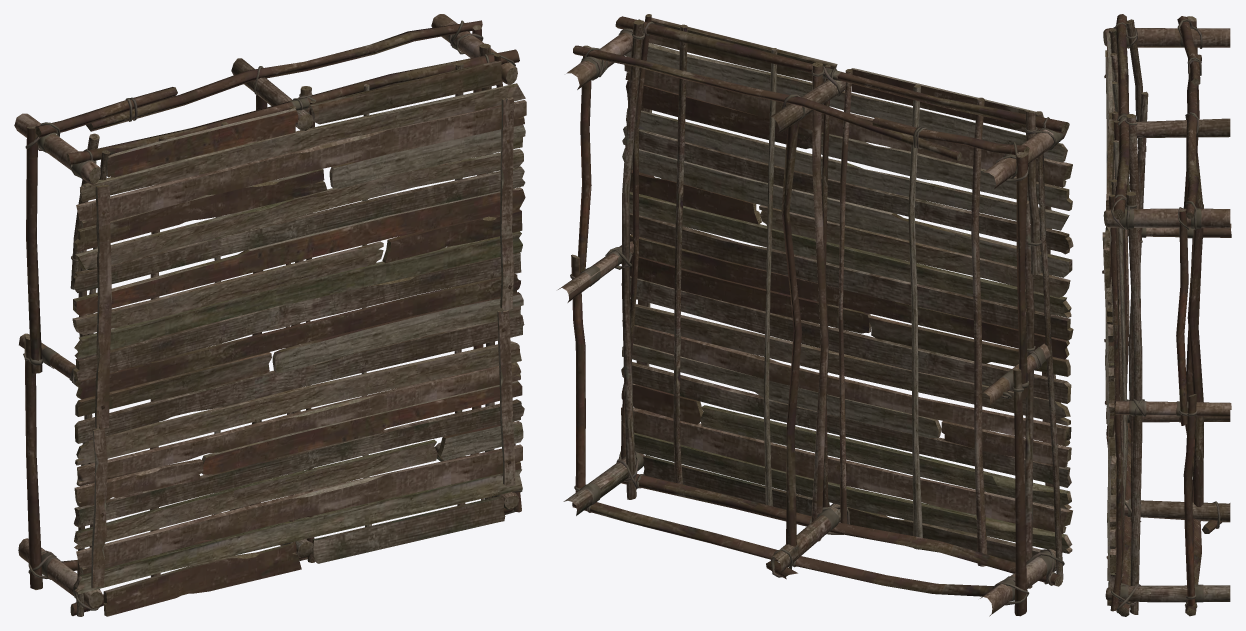
The model's file is GEN_PRO_Dock_Bamboo_6x6x1m_01A_LOD0-transformed.glb.
3 views of the same model, side by side, from view 1: azimuth 30°, elevation 25°; view 2: azimuth 150°, elevation 25°; view 3: azimuth 270°, elevation 25° (orthographic). The views are drawn at different scales.
Visible parts, largest first — view 1: GEN_PRO_Dock_Bamboo_6x6x1m_01A_LOD0; view 2: GEN_PRO_Dock_Bamboo_6x6x1m_01A_LOD0; view 3: GEN_PRO_Dock_Bamboo_6x6x1m_01A_LOD0.
Boxes of the visible parts, bbox=[...] form: GEN_PRO_Dock_Bamboo_6x6x1m_01A_LOD0: bbox=[14, 14, 526, 616]; GEN_PRO_Dock_Bamboo_6x6x1m_01A_LOD0: bbox=[558, 14, 1073, 616]; GEN_PRO_Dock_Bamboo_6x6x1m_01A_LOD0: bbox=[1102, 14, 1231, 616].
Size of the model in its own units: 0.0619 by 0.0624 by 0.0173.
2 materials, 2 textured.
